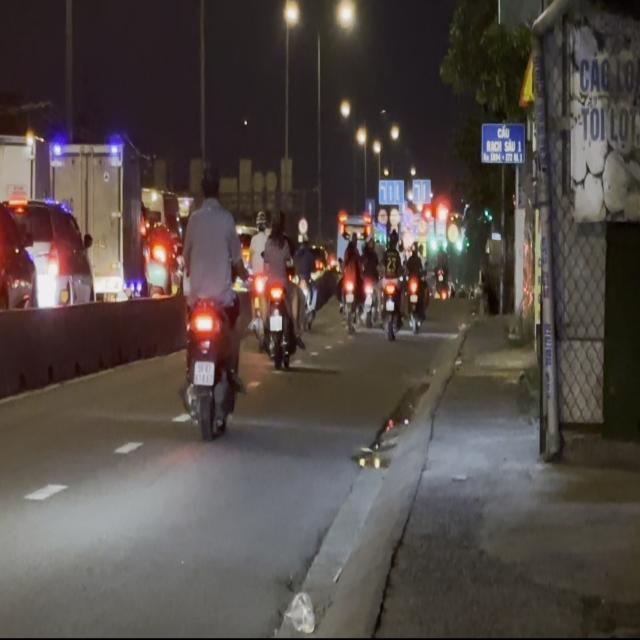helmet: (198, 161, 220, 203)
licenseplate: (177, 159, 246, 441)
nohelmet: (193, 360, 214, 385)
